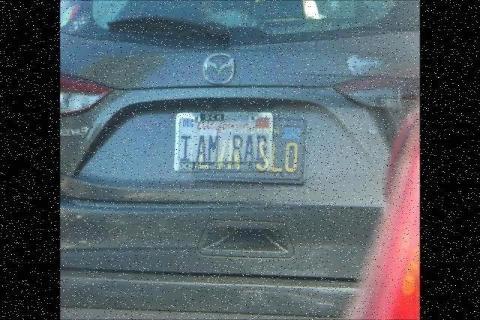LicensePlate: (176, 109, 274, 176)
